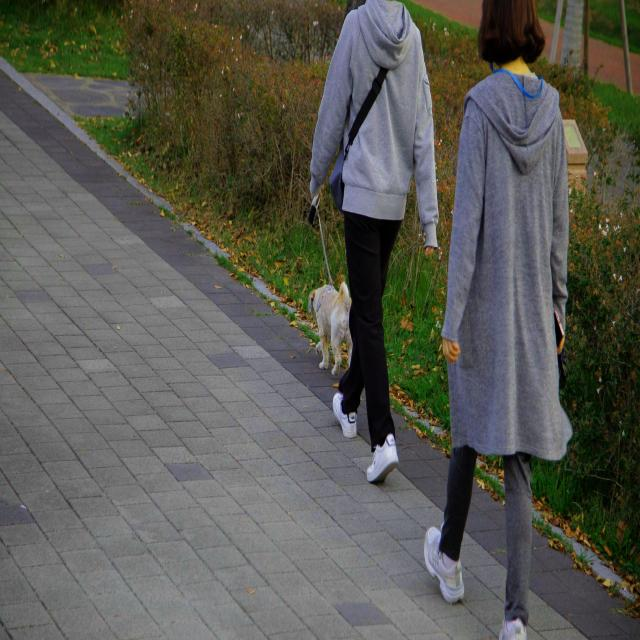Leashed_Dog: (308, 181, 357, 378)
